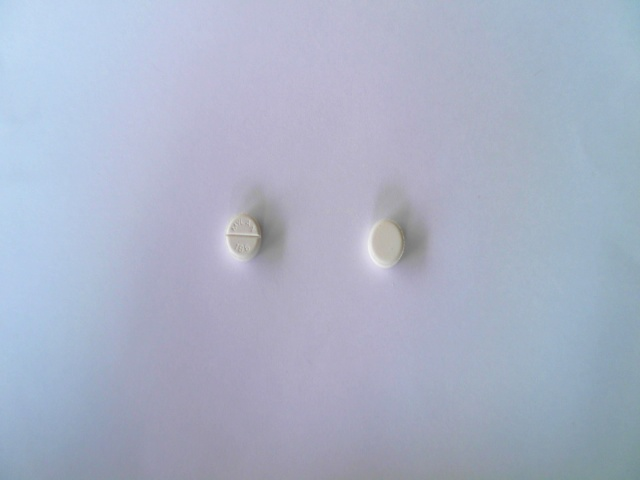|: (224, 228, 260, 242)
